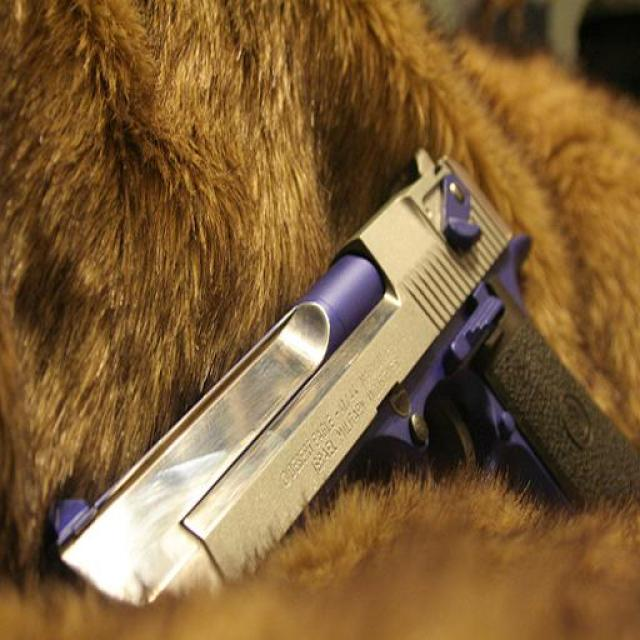pistol: (39, 149, 640, 594)
